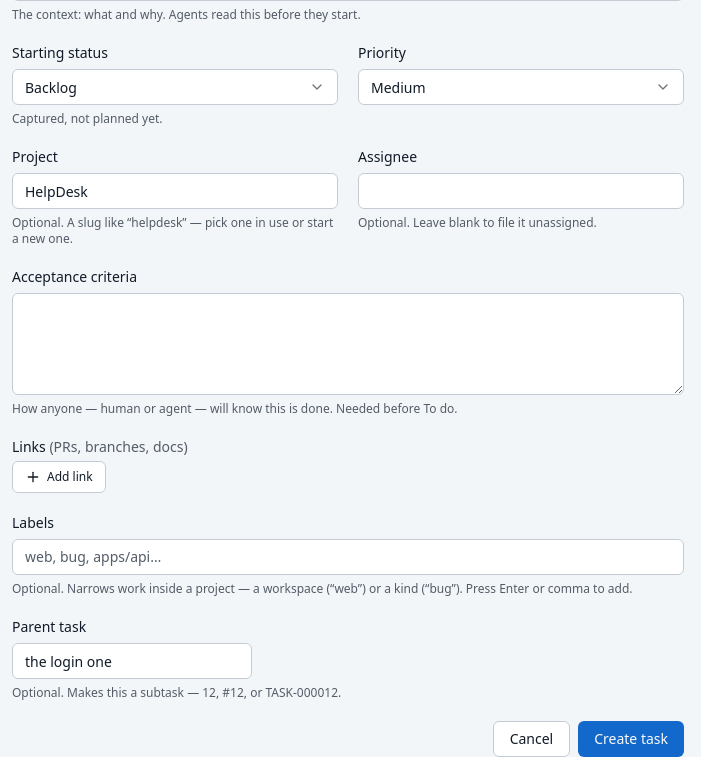
TaskForm — validation comes from the contract schema › refuses a parent that is not a task number
(page scrolled)
Step 1. Click the button "Create task" → (631, 739), box [578,721,684,756]
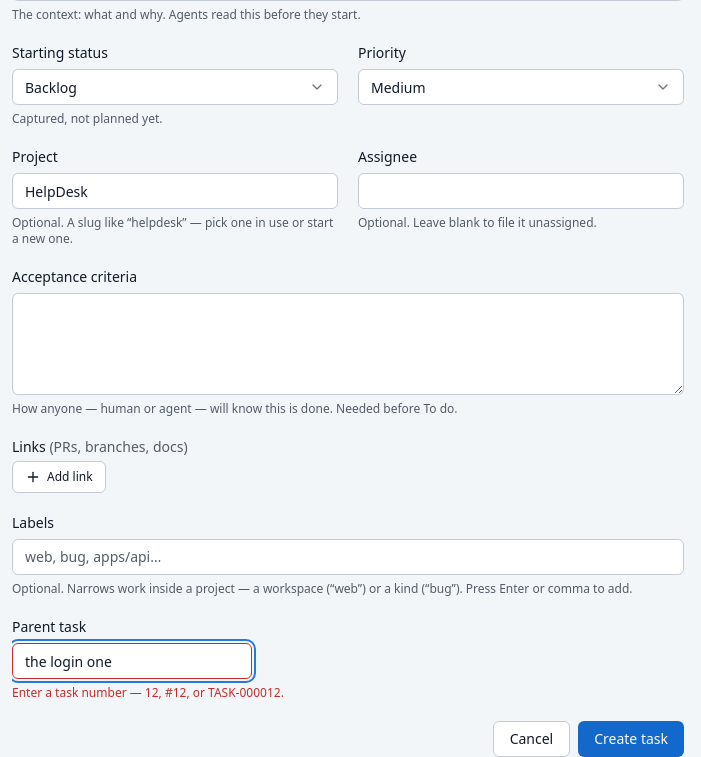
expect the text "Enter a task number — 12, #12, or TASK-000012." is shown: met, box [12,684,284,701]
